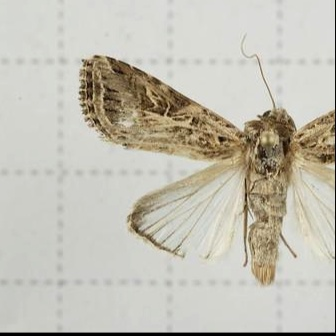Spodoptera litura: (78, 32, 335, 286)
